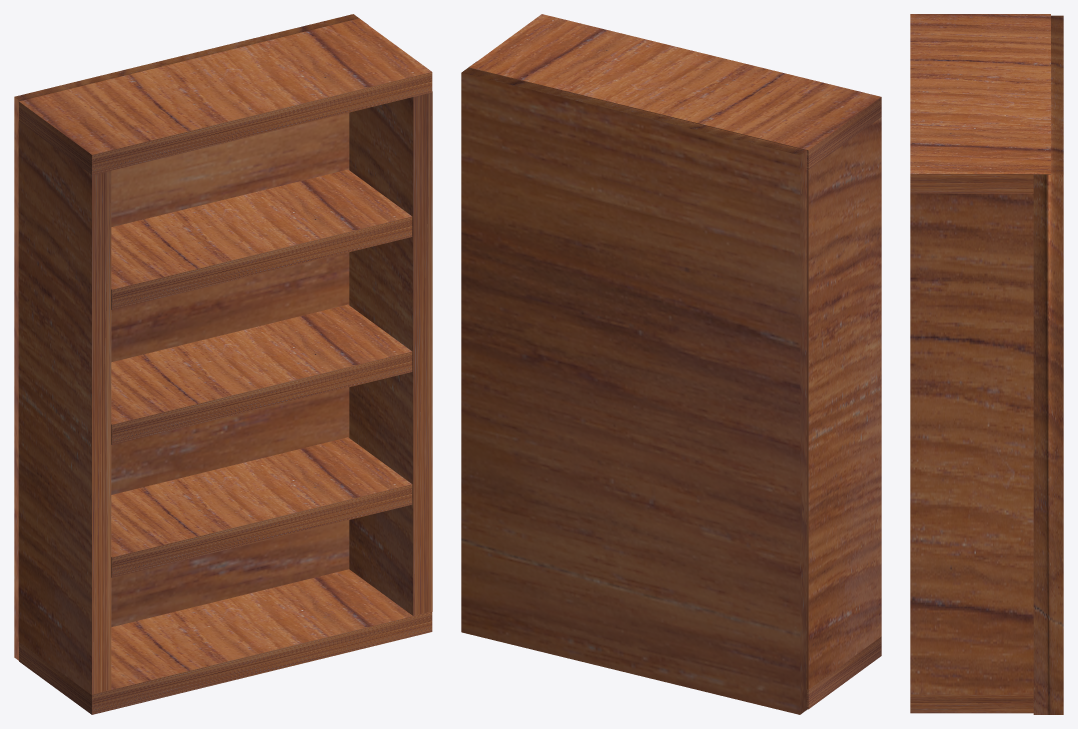
The model's file is BookShelf.fbx.
The picture shows the model from 3 angles, left to right: view 1: azimuth 30°, elevation 25°; view 2: azimuth 150°, elevation 25°; view 3: azimuth 270°, elevation 25°; orthographic projection. The views are drawn at different scales.
Visible parts, largest first — view 1: BookShelf; view 2: BookShelf; view 3: BookShelf.
Part boxes in pixels (x1,y1,x2,y2): BookShelf: [14, 14, 432, 714]; BookShelf: [461, 14, 881, 714]; BookShelf: [910, 14, 1063, 714].
Bounding box in the file's own units: 699 × 1098 × 283.
